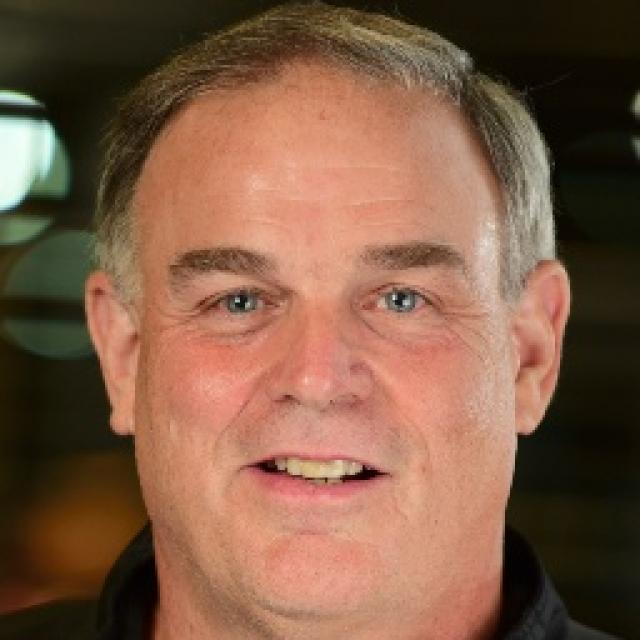earlobe: (513, 381, 550, 436), (107, 386, 139, 436)
eye: (194, 286, 280, 320), (360, 284, 440, 317)
nose: (272, 387, 368, 442)
wholeear: (513, 256, 570, 436), (84, 269, 139, 436)
